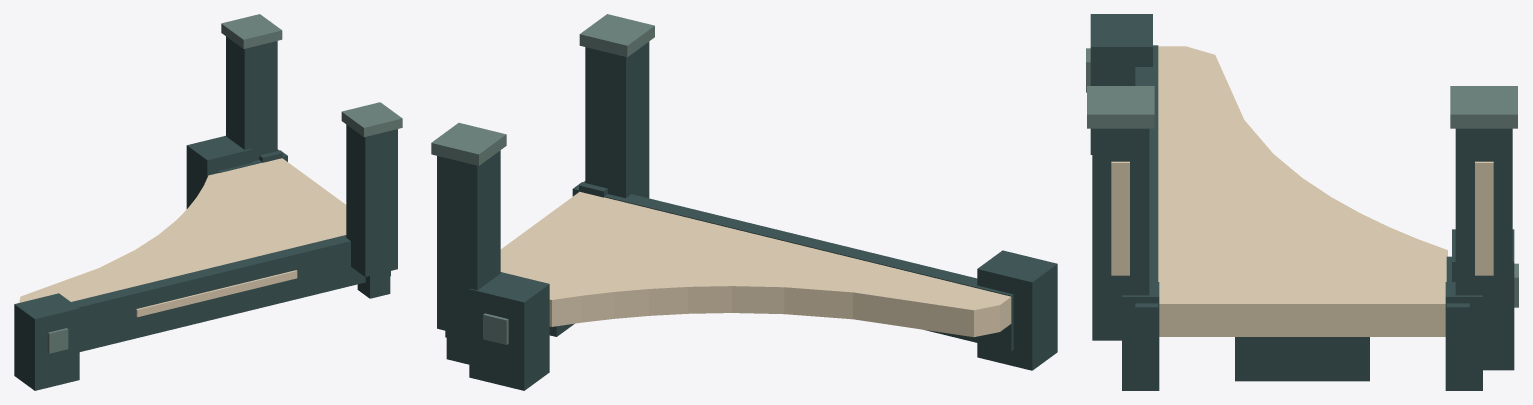
The model's file is Pier_Angled_60_Switch_lab2.glb.
3 views of the same model, side by side, from view 1: azimuth 30°, elevation 25°; view 2: azimuth 150°, elevation 25°; view 3: azimuth 270°, elevation 25° (orthographic). The views are drawn at different scales.
Visible parts, largest first — view 1: Pier_Angled_60_Switch; view 2: Pier_Angled_60_Switch; view 3: Pier_Angled_60_Switch.
Part boxes in pixels (box(x1,y1,x2,y2)): Pier_Angled_60_Switch: box(14, 14, 402, 390); Pier_Angled_60_Switch: box(431, 14, 1057, 390); Pier_Angled_60_Switch: box(1086, 14, 1518, 390).
Size of the model in its own units: 6.23 by 2.95 by 4.17.
